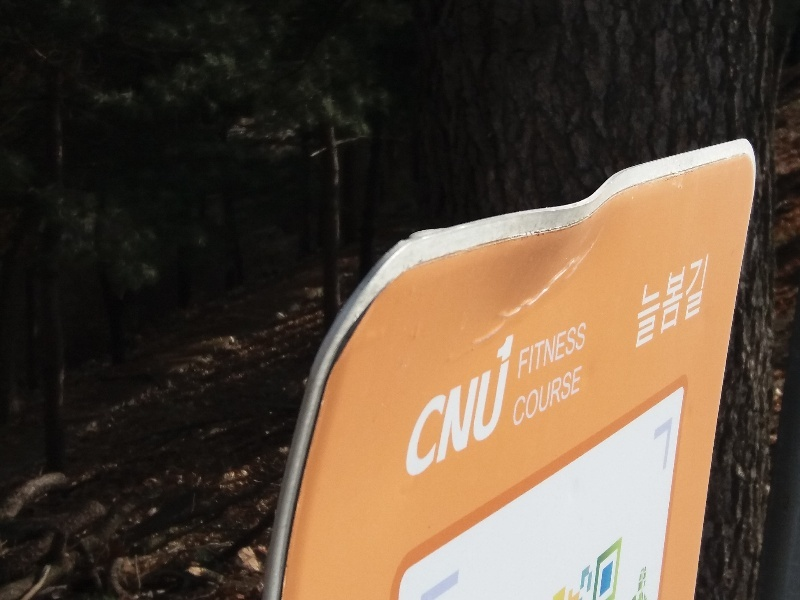text: (417, 329, 432, 483), (433, 329, 448, 483), (449, 329, 464, 483), (465, 329, 480, 483), (481, 329, 496, 483), (497, 329, 512, 483), (641, 253, 656, 354), (657, 253, 672, 354), (673, 253, 688, 354), (689, 253, 704, 354), (407, 329, 416, 483), (513, 365, 528, 429), (529, 365, 544, 429), (545, 365, 560, 429), (561, 365, 576, 429), (529, 320, 544, 382), (545, 320, 560, 382), (561, 320, 576, 382), (577, 320, 588, 382), (705, 253, 711, 354), (519, 320, 528, 382), (513, 329, 516, 483), (577, 365, 583, 429)
